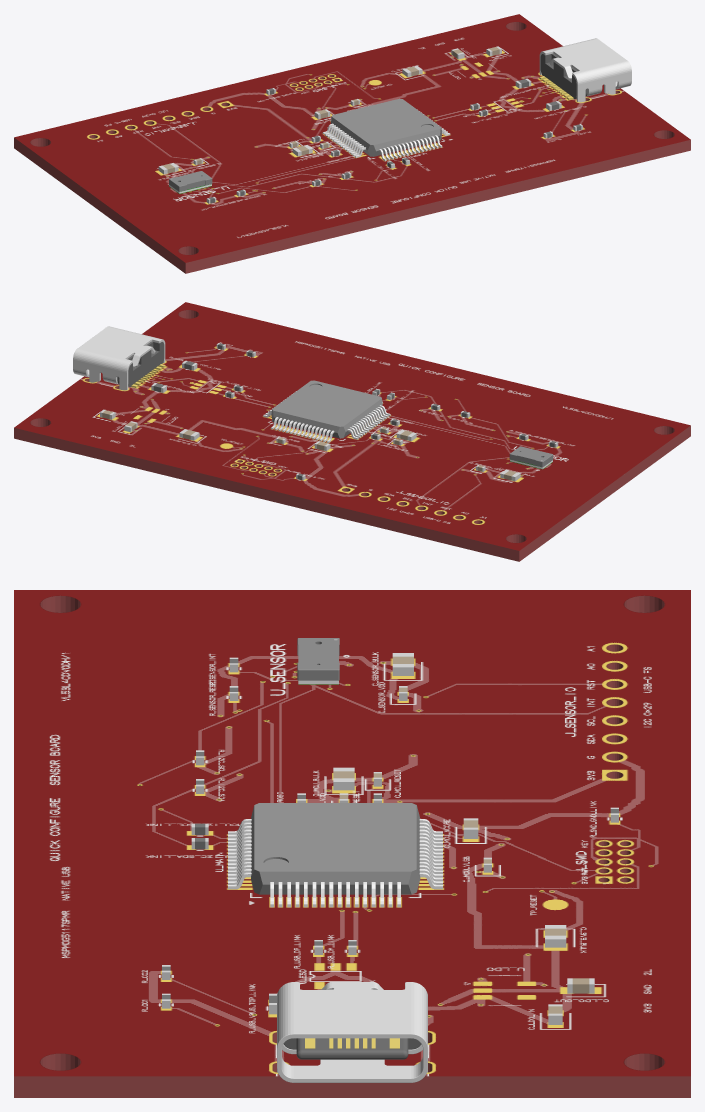
The picture shows the model from 3 angles, top to bottom: view 1: azimuth 30°, elevation 25°; view 2: azimuth 150°, elevation 25°; view 3: azimuth 270°, elevation 25°; orthographic projection. The views are drawn at different scales.
Visible parts, largest first — view 1: Box0, U_MAIN, J_USB, U_SENSOR; view 2: Box0, U_MAIN, J_USB, U_SENSOR; view 3: Box0, U_MAIN, J_USB, U_SENSOR.
Boxes of the visible parts, <box> form: Box0: <box>14,14,690,273</box>; U_MAIN: <box>322,98,450,161</box>; J_USB: <box>539,38,631,102</box>; U_SENSOR: <box>169,171,212,193</box>; Box0: <box>14,302,690,561</box>; U_MAIN: <box>263,380,390,442</box>; J_USB: <box>73,326,165,390</box>; U_SENSOR: <box>509,446,553,469</box>; Box0: <box>14,590,690,1097</box>; U_MAIN: <box>228,803,442,907</box>; J_USB: <box>277,982,427,1082</box>; U_SENSOR: <box>297,638,339,684</box>.
Size of the model in its own units: 69.04 by 4.65 by 40.
19 materials, 2 textured.
